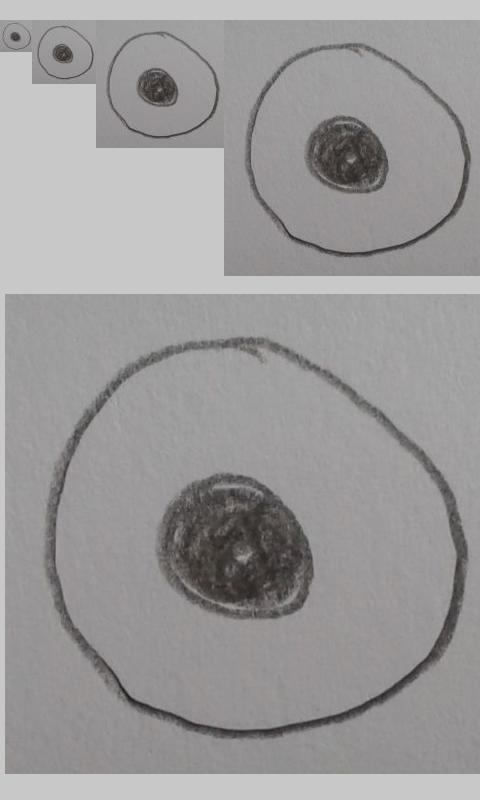radio_button: (42, 337, 468, 741), (244, 43, 471, 258), (105, 30, 220, 140), (36, 25, 95, 80), (1, 21, 33, 51)
